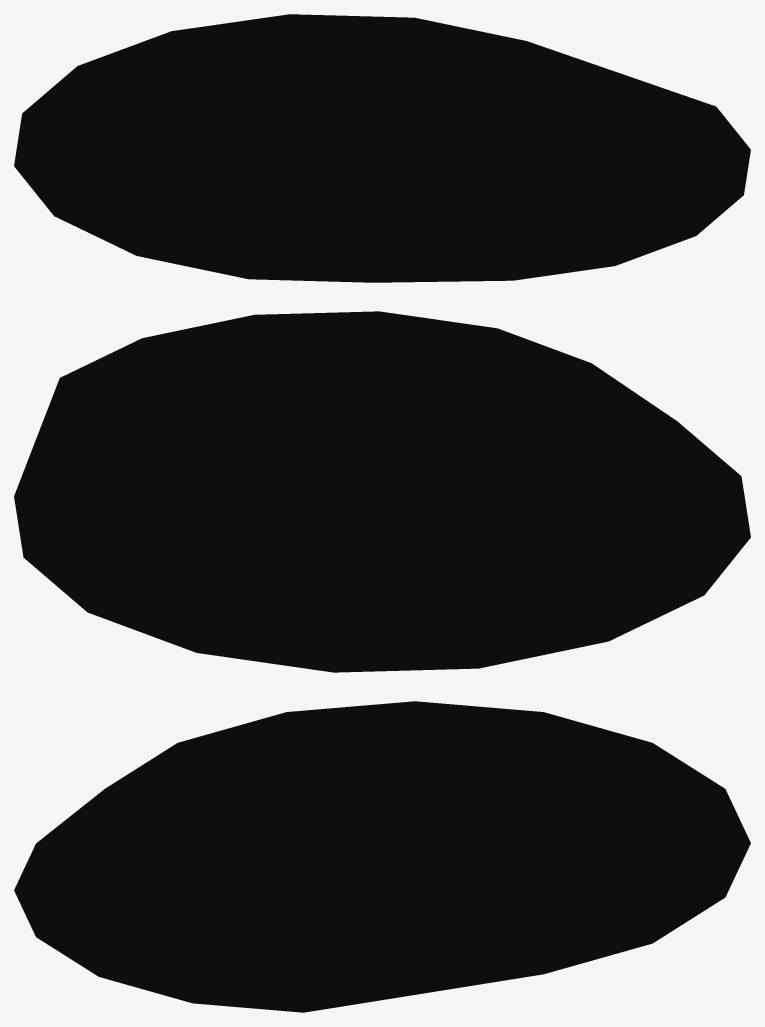
3 renders of one model, top to bottom at view 1: azimuth 30°, elevation 25°; view 2: azimuth 150°, elevation 25°; view 3: azimuth 270°, elevation 25°, orthographic. The views are drawn at different scales.
Parts seen in each view (by area): view 1: Joint_0_Object_0; view 2: Joint_0_Object_0; view 3: Joint_0_Object_0.
Part boxes in pixels (x1=…): Joint_0_Object_0: x1=14, y1=14, x2=750, y2=282; Joint_0_Object_0: x1=14, y1=311, x2=750, y2=672; Joint_0_Object_0: x1=14, y1=701, x2=750, y2=1012.
Size of the model in its own units: 496 by 0 by 496.
Materials: 1 (1 with a texture image).
